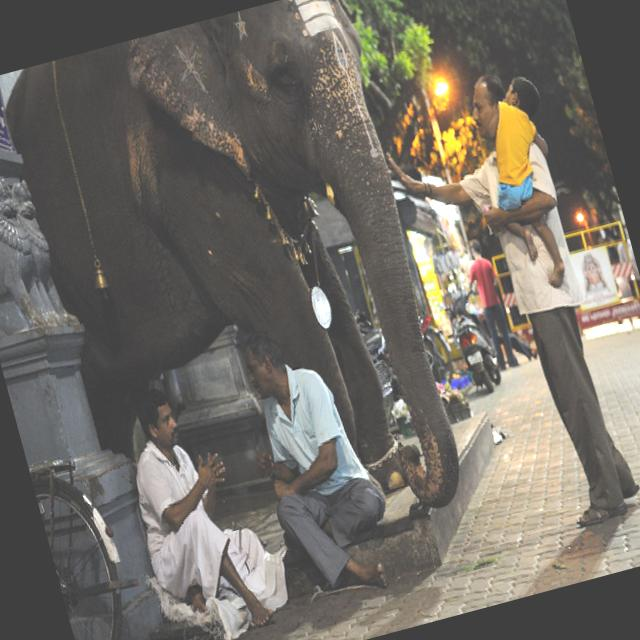Vehicle: (434, 288, 505, 399), (362, 329, 404, 425)
